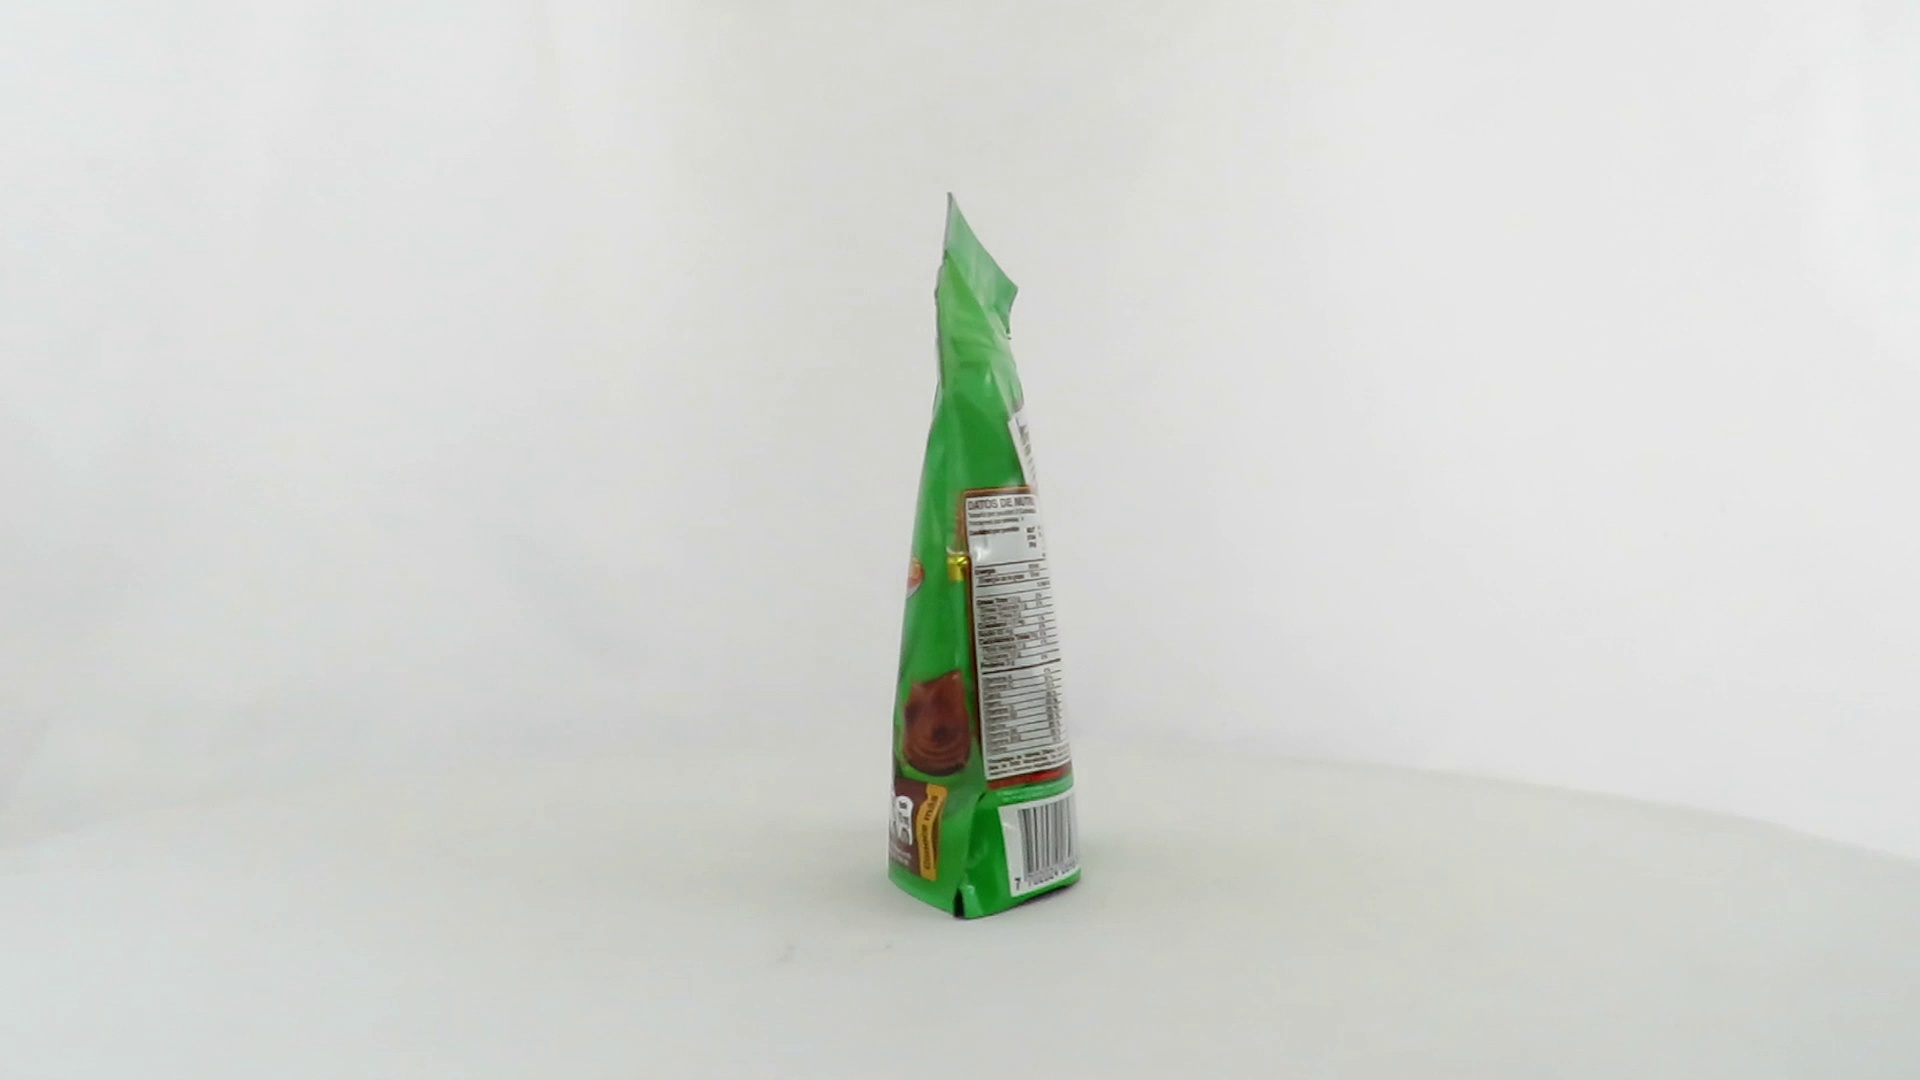COL0170203DYP10000: (884, 187, 1091, 927)
